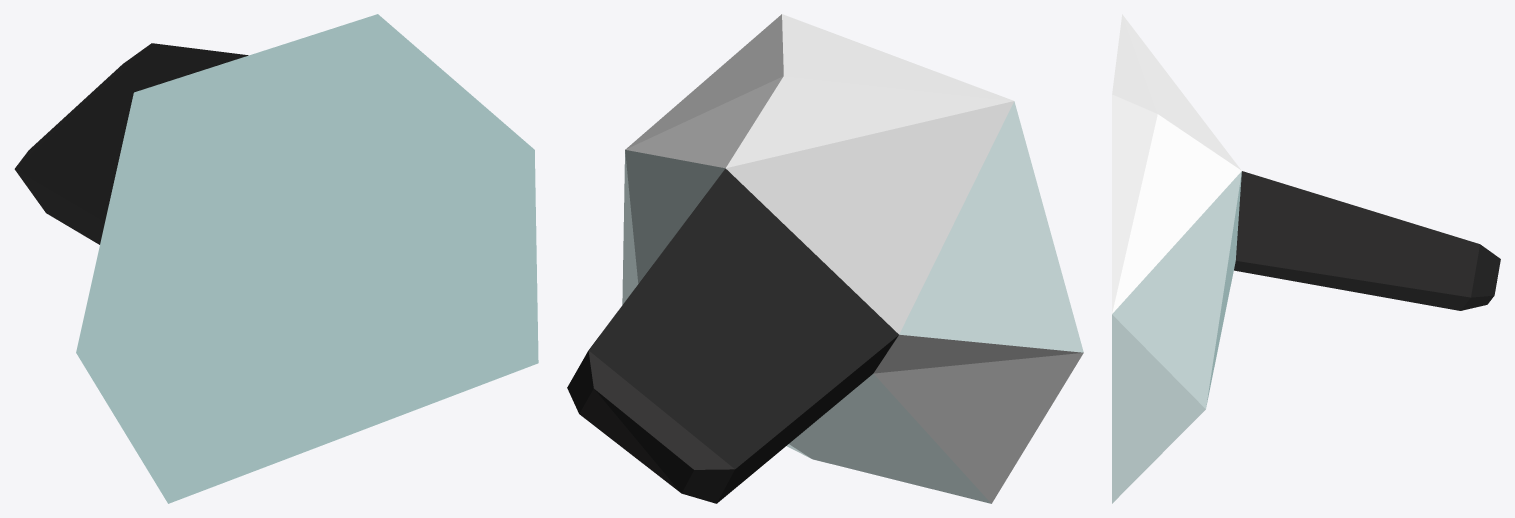
The model's file is winter_object_2.fbx.
3 renders of one model, left to right at view 1: azimuth 30°, elevation 25°; view 2: azimuth 150°, elevation 25°; view 3: azimuth 270°, elevation 25°, orthographic. The views are drawn at different scales.
Parts seen in each view (by area): view 1: Cylinder; view 2: Cylinder; view 3: Cylinder.
Boxes of the visible parts, box(x1,y1,x2,y2) form: Cylinder: box(14, 14, 538, 503); Cylinder: box(567, 14, 1083, 503); Cylinder: box(1112, 14, 1500, 503).
Size of the model in its own units: 128 by 116 by 107.
